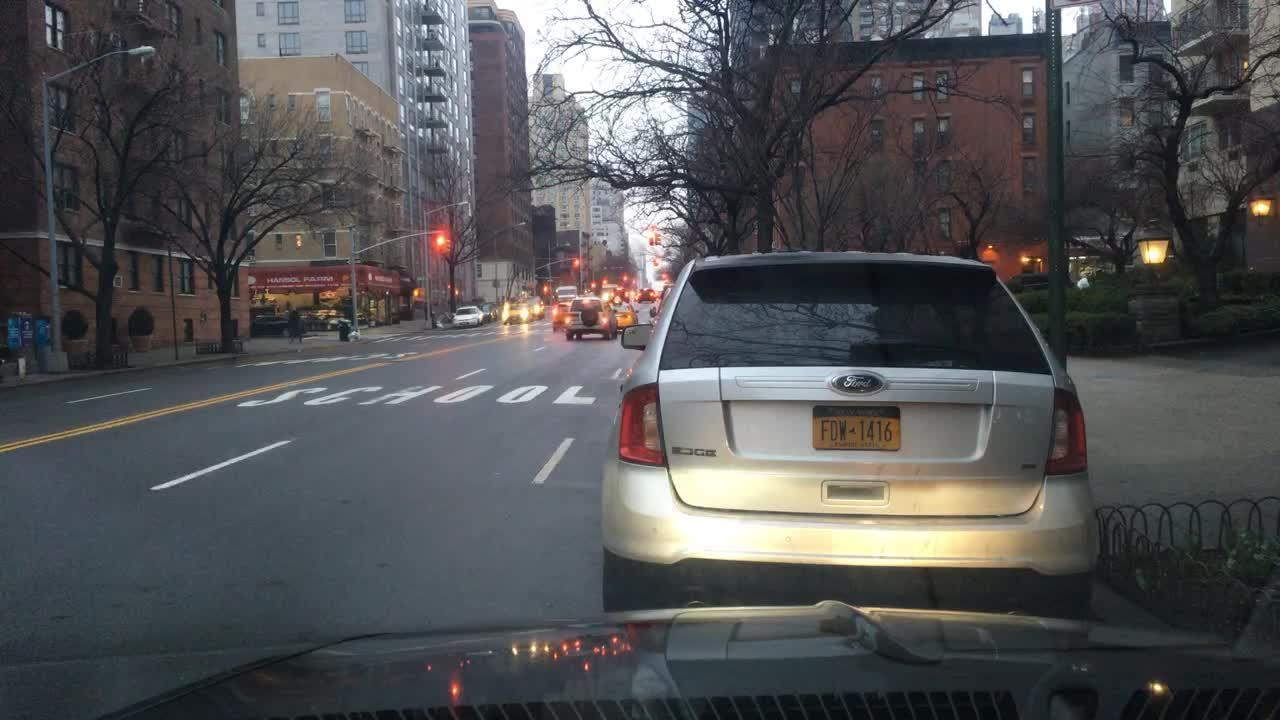ford: (832, 370, 899, 398)
